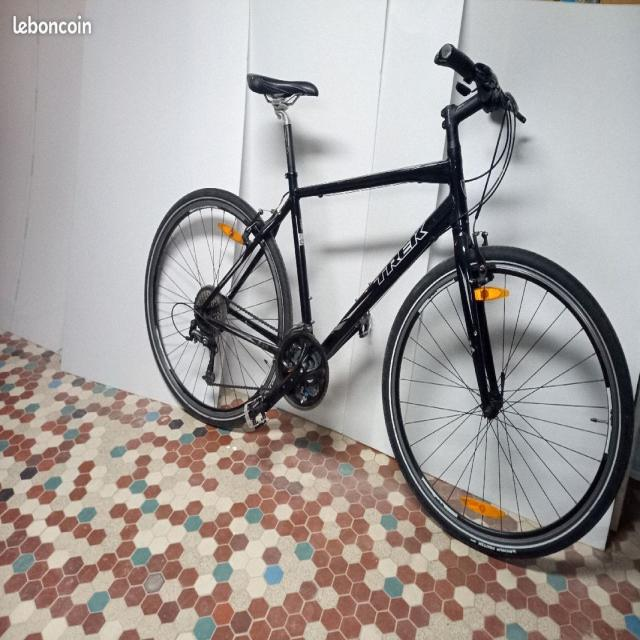Bike: (146, 44, 634, 558)
